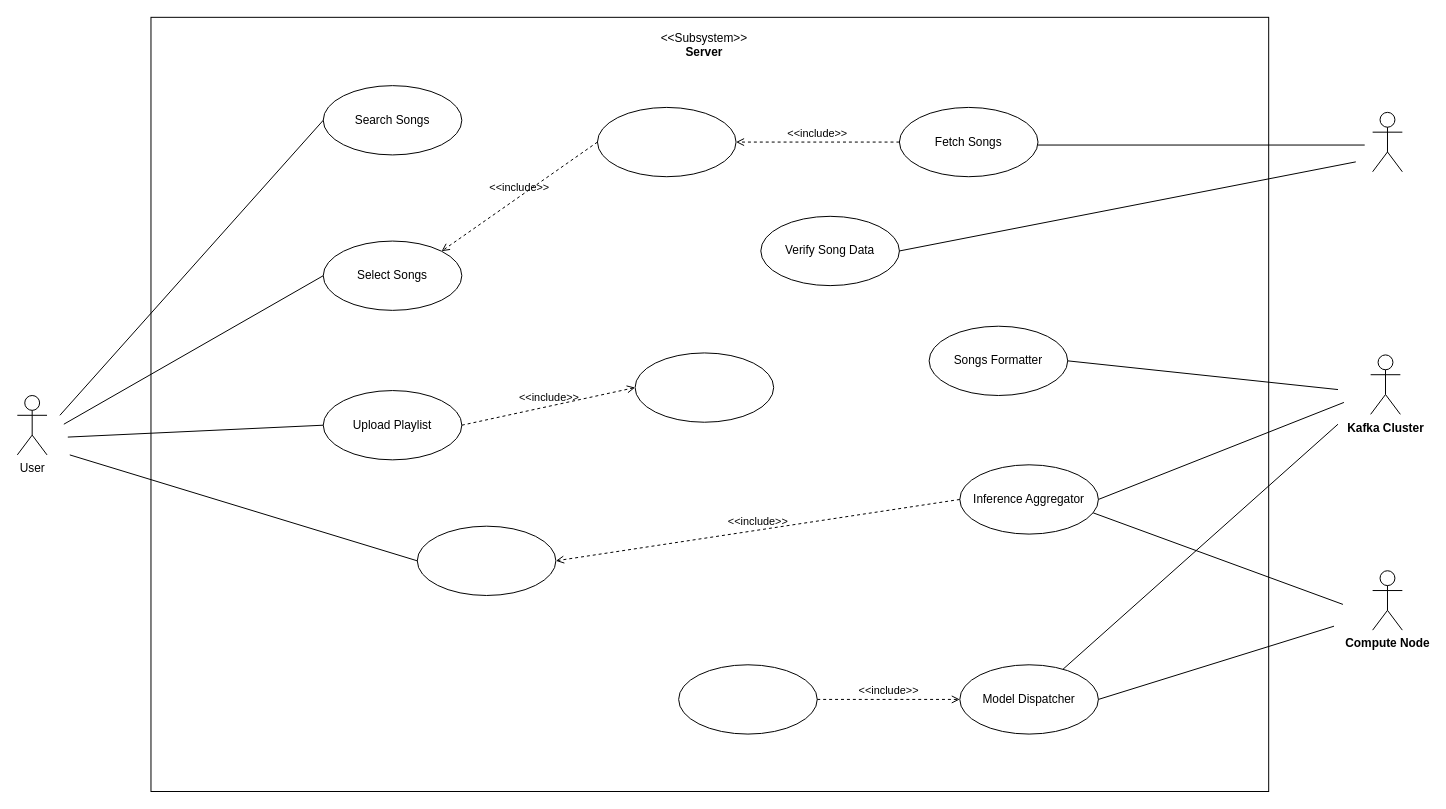
Image size: 1446x809. Some labels were removed from this diagram. The shapes that lost their labels are listed below. From the top down, each one's box as (x1, y1, x2, y2) in pixels, then its label:
(596, 106, 736, 177): Display Songs
(1372, 111, 1402, 172): <<Service>> Database
(634, 352, 774, 422): Verify Playlist Data
(416, 525, 556, 595): Display Recommended Songs
(678, 664, 817, 734): Model Partitioning
